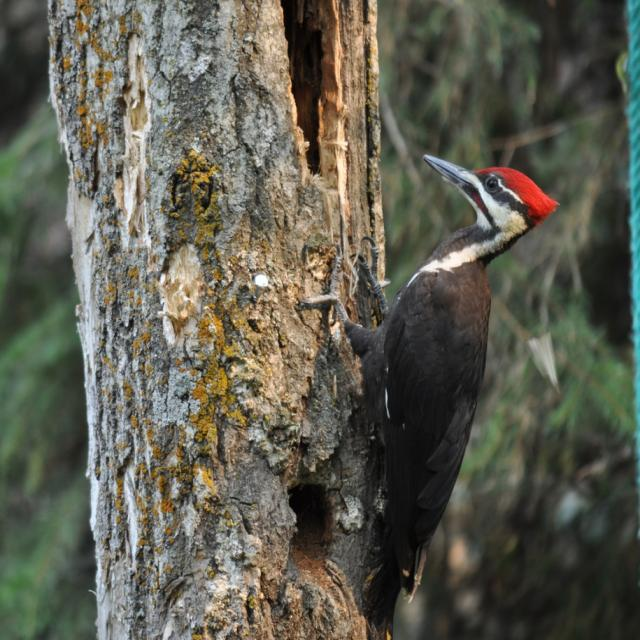Woodpecker: (344, 150, 556, 633)
